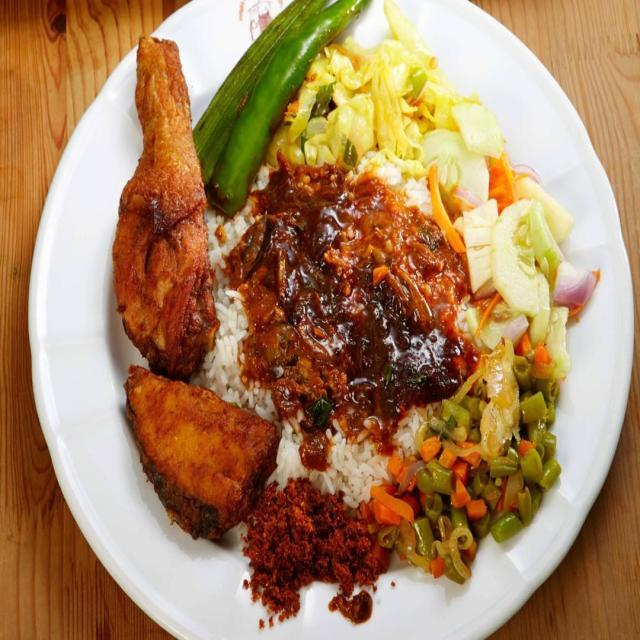Chicken: (113, 34, 220, 382)
Fish: (124, 366, 281, 546)
Plate: (33, 0, 633, 639)
Rice: (200, 169, 463, 505)
Vegetables: (194, 1, 603, 587)
